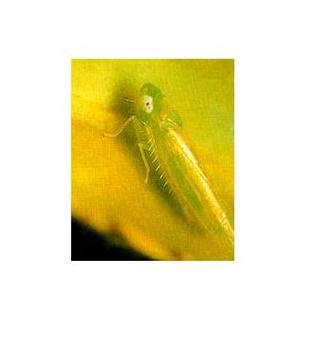Cicadellidae: (103, 83, 222, 229)
